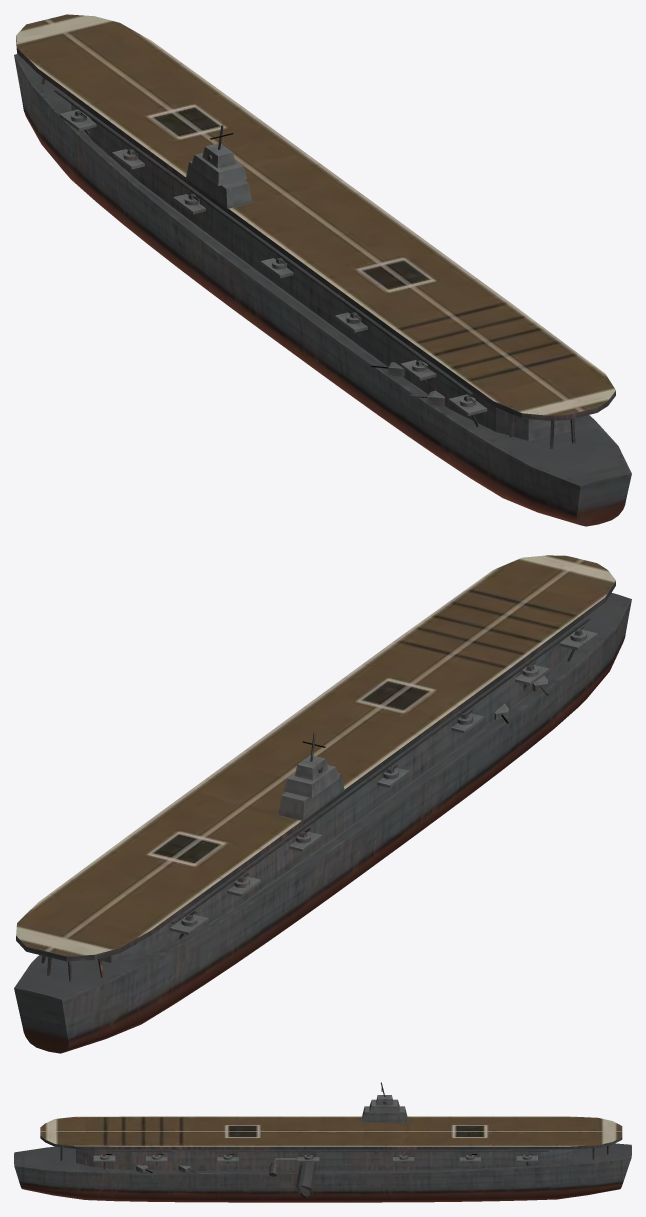
The model's file is carrier_ijn_L_baked.glb.
3 renders of one model, top to bottom at view 1: azimuth 30°, elevation 25°; view 2: azimuth 150°, elevation 25°; view 3: azimuth 270°, elevation 25°, orthographic. The views are drawn at different scales.
Parts seen in each view (by area): view 1: carrier_ijn_L; view 2: carrier_ijn_L; view 3: carrier_ijn_L.
Boxes of the visible parts, <box> form: carrier_ijn_L: <box>14,14,631,526</box>; carrier_ijn_L: <box>14,555,631,1053</box>; carrier_ijn_L: <box>14,1082,631,1202</box>.
Size of the model in its own units: 42.63 by 46.27 by 260.
Materials: 1 (1 with a texture image).
